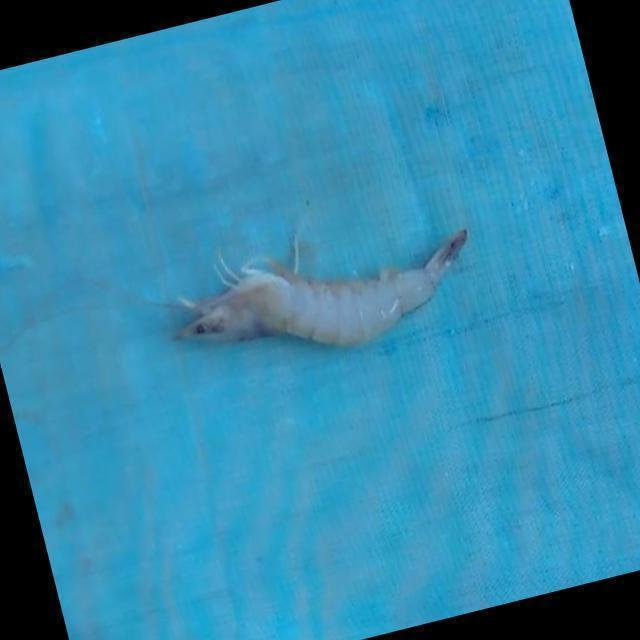shrimp: (178, 230, 469, 345)
